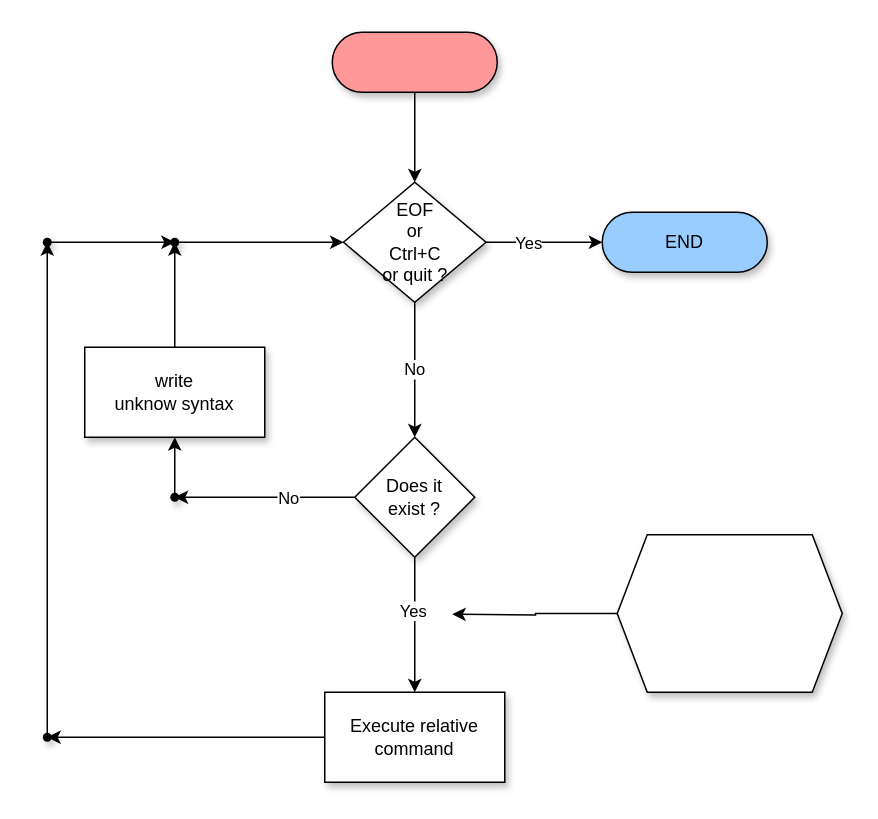
Image size: 878x819. Some labels were removed from this diagram. The centre of each missing label's shape, as x and y in pixels:
list of command create show all destroy update: the point at 730,615
START: the point at 415,64
